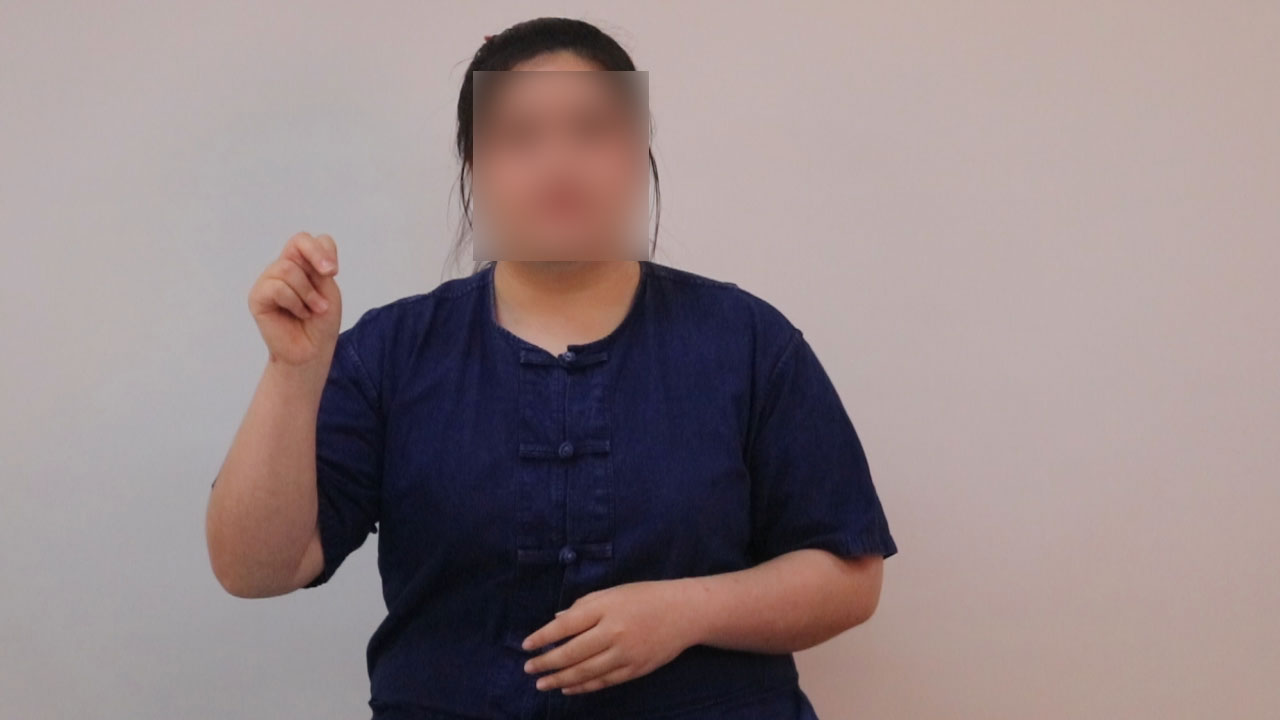nor: (238, 222, 373, 368)
